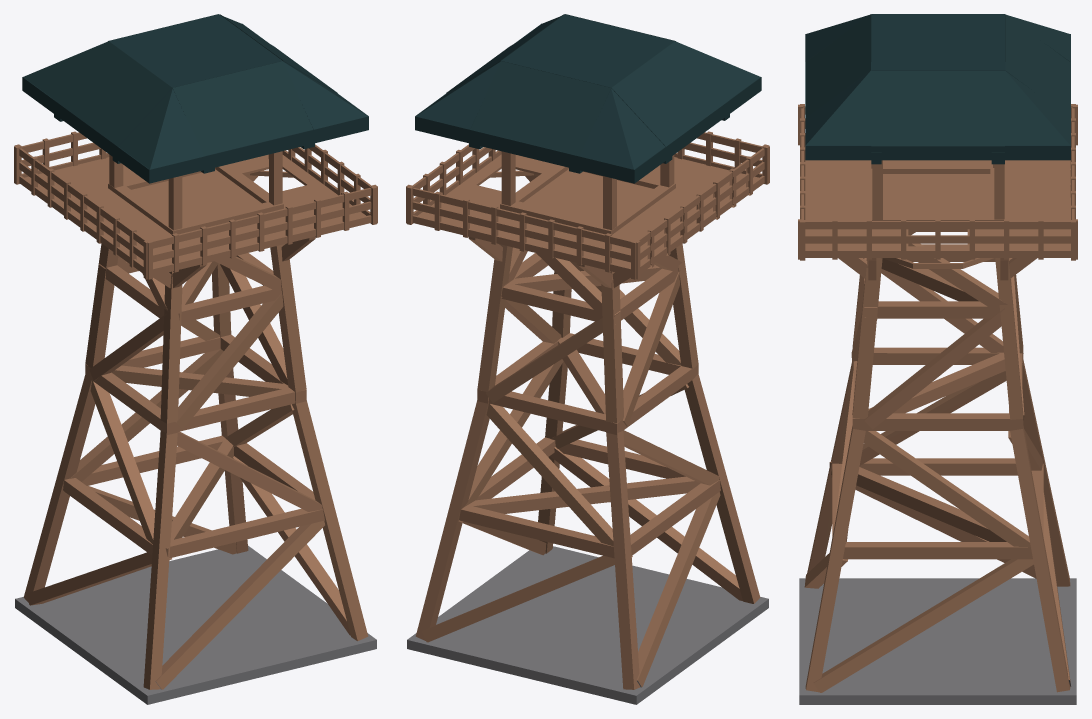
Rendered from Target_Tower.fbx.
3 renders of one model, left to right at view 1: azimuth 30°, elevation 25°; view 2: azimuth 150°, elevation 25°; view 3: azimuth 270°, elevation 25°, orthographic. The views are drawn at different scales.
Visible parts, largest first — view 1: Tower; view 2: Tower; view 3: Tower.
Boxes of the visible parts, left/top/right/bottom form: Tower: left=14, top=14, right=377, bottom=704; Tower: left=406, top=14, right=769, bottom=704; Tower: left=798, top=14, right=1077, bottom=704.
Size of the model in its own units: 21.2 by 50.5 by 21.2.
